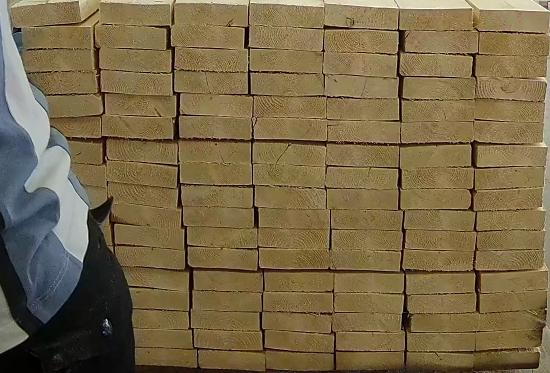Wood-Plank: (13, 0, 84, 29), (325, 4, 399, 31), (100, 70, 173, 96), (327, 143, 400, 168), (250, 4, 323, 29), (106, 138, 176, 164), (325, 30, 400, 54), (477, 143, 549, 168), (107, 162, 176, 188), (171, 24, 245, 48), (253, 142, 327, 166), (100, 2, 173, 26), (95, 26, 168, 50), (175, 48, 248, 72), (175, 70, 248, 94), (404, 30, 480, 53), (250, 48, 322, 72), (174, 3, 249, 26), (102, 114, 173, 138), (250, 27, 324, 50), (251, 73, 325, 96), (112, 203, 180, 228), (114, 225, 182, 250), (480, 268, 548, 293), (36, 139, 104, 164), (254, 164, 324, 188), (27, 70, 97, 94), (99, 49, 172, 72), (179, 117, 252, 140), (325, 53, 397, 76), (404, 77, 476, 100), (115, 246, 184, 270), (475, 120, 544, 144), (255, 186, 326, 209), (32, 95, 103, 118), (108, 184, 176, 208), (22, 50, 96, 72), (400, 54, 474, 76), (480, 31, 550, 54), (478, 77, 548, 100), (475, 188, 545, 211), (36, 164, 106, 187), (254, 118, 327, 140), (327, 98, 400, 120), (403, 100, 476, 122), (22, 27, 91, 50), (476, 56, 548, 78), (180, 94, 252, 116), (400, 8, 472, 30), (188, 248, 259, 270), (181, 186, 252, 208), (401, 146, 472, 168), (105, 94, 175, 116), (260, 248, 330, 270), (331, 250, 401, 272), (405, 250, 475, 272), (476, 168, 546, 190), (479, 10, 549, 32), (326, 76, 399, 97), (478, 208, 547, 230), (478, 310, 547, 332), (265, 330, 334, 352), (191, 310, 260, 332), (254, 97, 326, 118), (402, 122, 474, 143), (180, 163, 251, 184), (327, 167, 398, 188), (403, 168, 474, 189), (401, 189, 472, 210), (36, 187, 107, 208), (122, 268, 189, 290), (33, 116, 100, 138), (328, 189, 398, 210), (476, 101, 546, 122), (335, 273, 405, 294), (475, 348, 541, 370), (407, 274, 476, 295), (408, 293, 477, 314), (179, 142, 251, 162), (328, 122, 400, 142), (187, 228, 258, 248), (183, 208, 254, 228), (406, 230, 476, 250), (265, 272, 334, 292), (263, 314, 332, 334), (266, 352, 335, 372), (337, 332, 406, 352), (194, 330, 263, 350), (194, 272, 262, 292), (193, 292, 261, 312), (481, 292, 549, 312), (198, 352, 266, 372), (405, 211, 476, 230), (411, 313, 478, 333), (332, 231, 402, 250), (332, 211, 402, 230), (477, 330, 543, 350), (476, 252, 545, 271), (264, 293, 333, 312), (335, 295, 404, 314), (478, 231, 546, 250), (408, 333, 476, 352), (259, 210, 330, 228), (337, 352, 404, 371), (259, 230, 329, 248), (334, 314, 403, 332), (407, 354, 475, 372), (129, 290, 189, 310), (135, 350, 197, 368), (133, 310, 188, 330), (134, 330, 192, 348)
